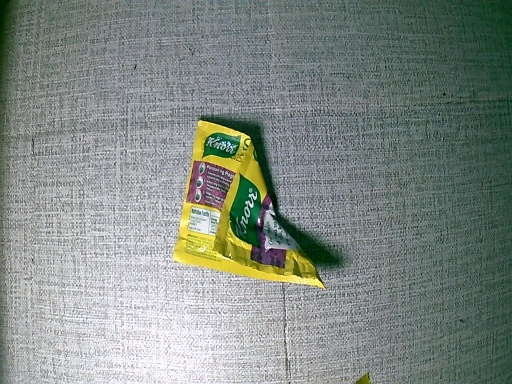plastic: (168, 115, 329, 294)
